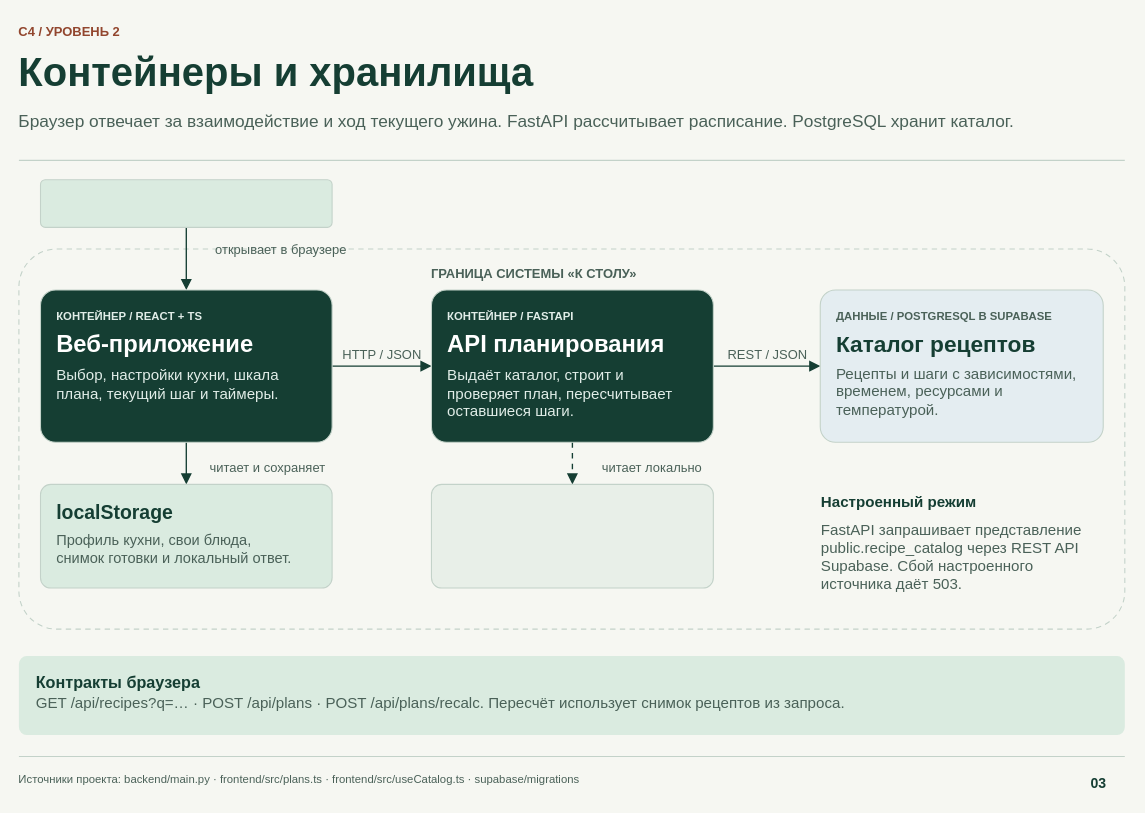
The diagram is 1145 pixels wide and 813 high, and some of its shapes have lost their labels. Each missing label, with the centre of its shape:
"recipes/catalog.yaml Локальный источник каталога, когда база не настроена." goes at (x=571, y=535).
"Домашний кулинар" goes at (x=185, y=203).
